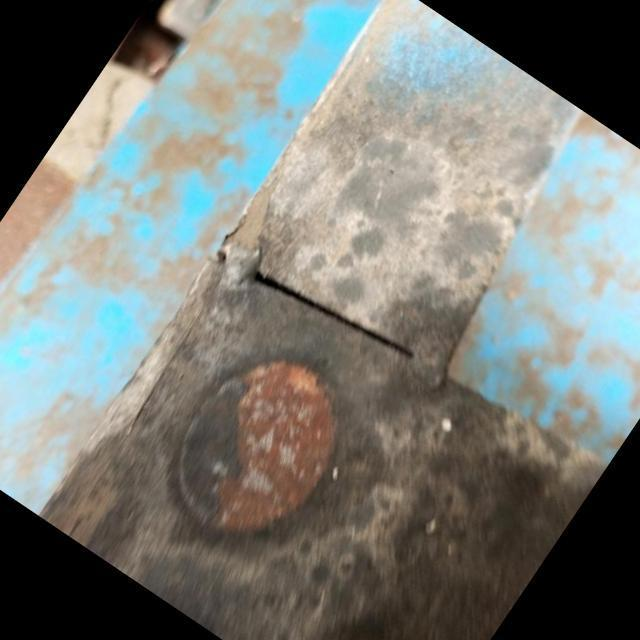defect: (250, 265, 416, 365)
